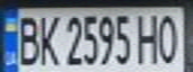2: (60, 11, 84, 66)
5: (112, 11, 136, 65), (78, 11, 100, 66)
9: (97, 11, 118, 65)
B: (12, 11, 42, 66)
H: (133, 10, 163, 65)
K: (33, 11, 60, 68)
O: (154, 10, 184, 65)
